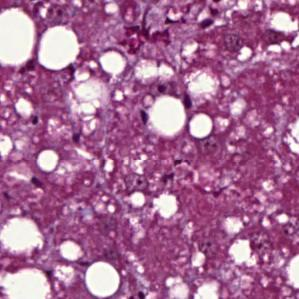ballooning: (64, 70, 114, 139), (179, 65, 224, 108)
